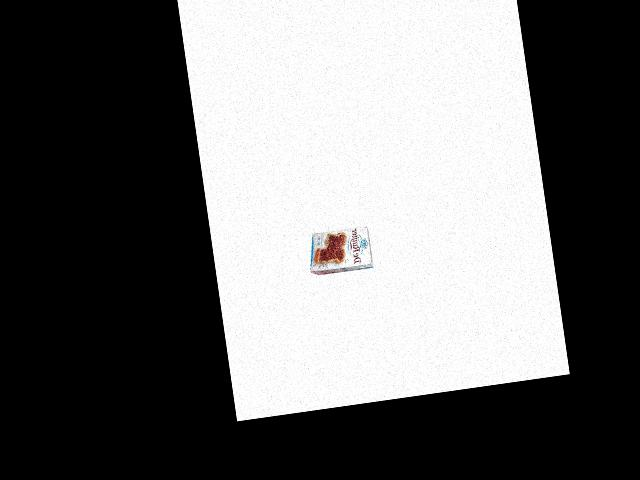chocolate: (306, 219, 378, 282)
